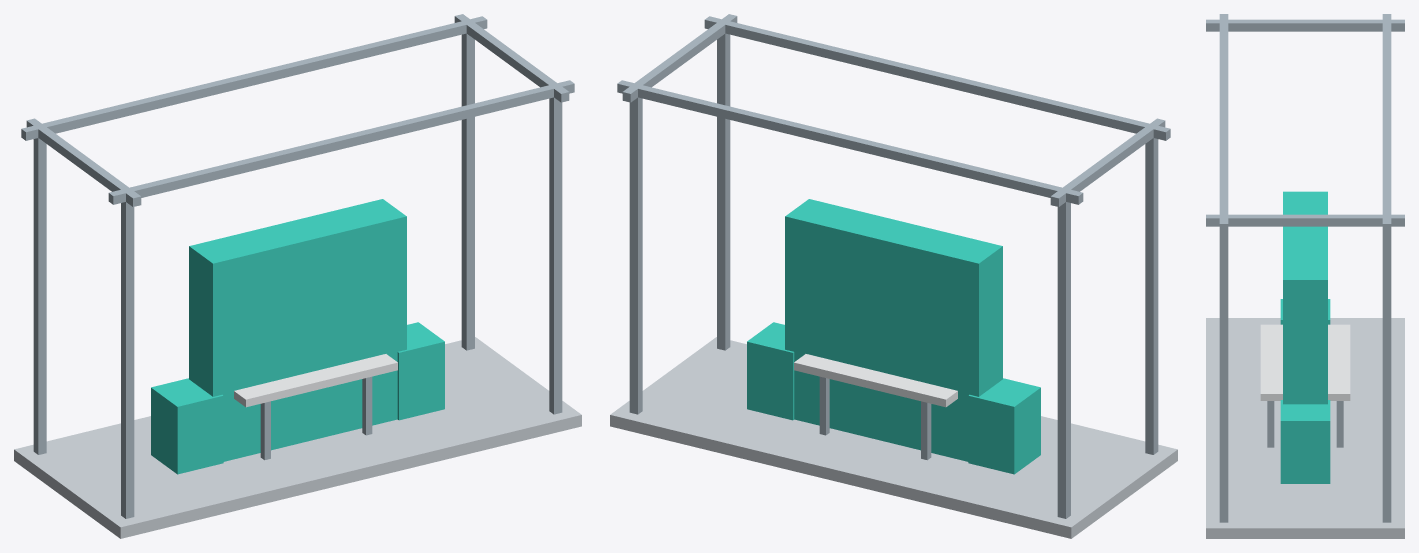
3 renders of one model, left to right at view 1: azimuth 30°, elevation 25°; view 2: azimuth 150°, elevation 25°; view 3: azimuth 270°, elevation 25°, orthographic. The views are drawn at different scales.
Visible parts, largest first — view 1: Exhibition Booth Concept; view 2: Exhibition Booth Concept; view 3: Exhibition Booth Concept.
Boxes of the visible parts, <box> form: Exhibition Booth Concept: <box>14,14,581,538</box>; Exhibition Booth Concept: <box>610,14,1177,538</box>; Exhibition Booth Concept: <box>1206,14,1404,538</box>.
Size of the model in its own units: 5 by 3.49 by 2.
